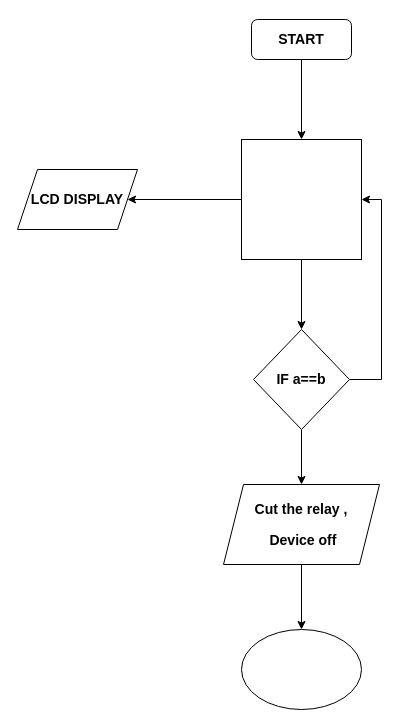
Image size: 407x727. Some labels were removed from this diagram. Here are the shapes that lost their labels. From the top down, the box of each, then its label:
(240, 138, 362, 260): Atmega328
(240, 628, 362, 710): End
